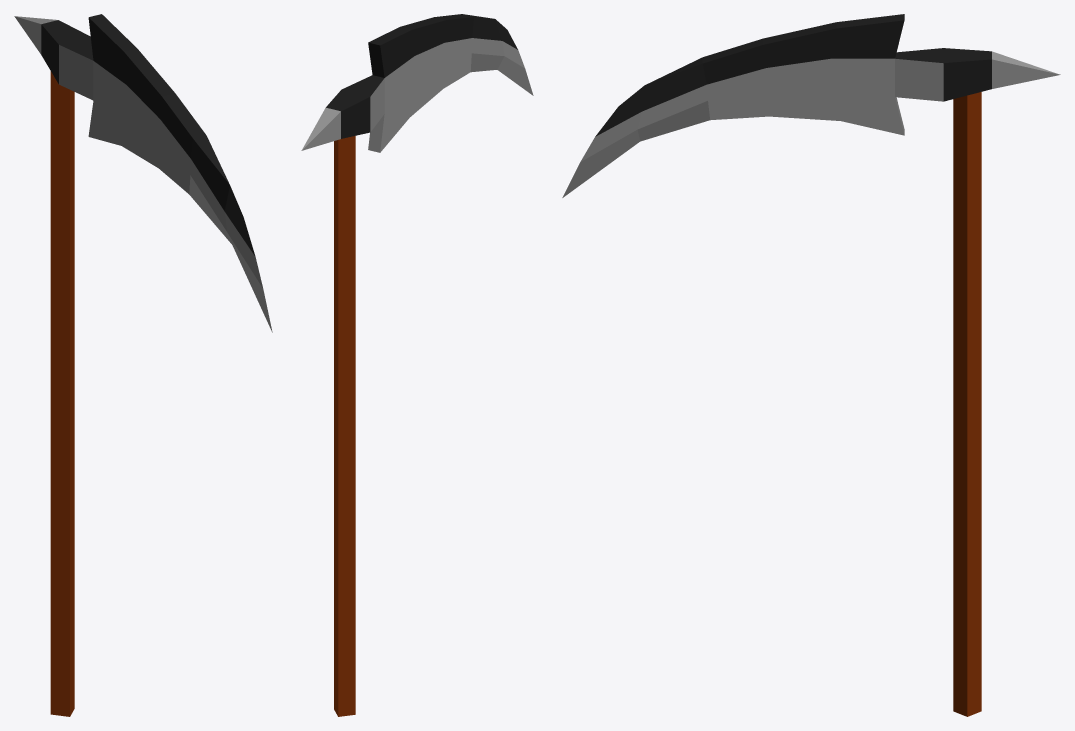
Rendered from grimhart.obj.
The picture shows the model from 3 angles, left to right: view 1: azimuth 30°, elevation 25°; view 2: azimuth 150°, elevation 25°; view 3: azimuth 270°, elevation 25°; orthographic projection. The views are drawn at different scales.
Visible parts, largest first — view 1: grimhart; view 2: grimhart; view 3: grimhart.
Boxes of the visible parts, left/top/right/bottom form: grimhart: left=14, top=14, right=272, bottom=716; grimhart: left=301, top=14, right=533, bottom=716; grimhart: left=562, top=14, right=1060, bottom=716.
Size of the model in its own units: 0.0366 by 0.7799 by 0.5079.
